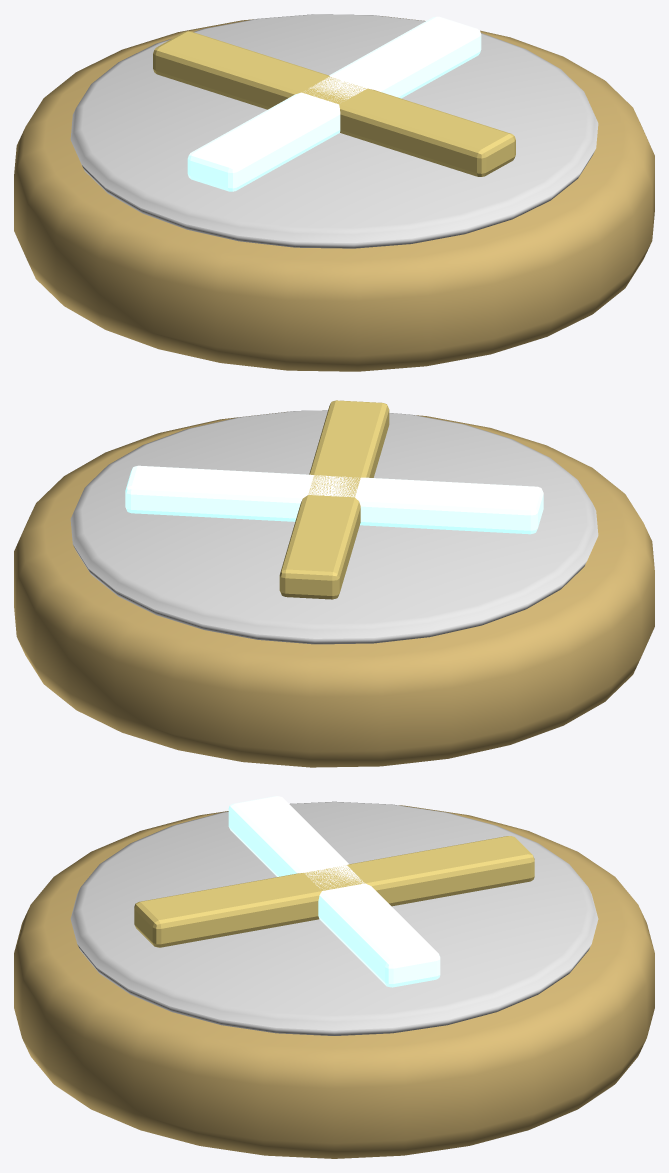
The model's file is SM_Art_StarlightCompass.fbx.
3 views of the same model, one above another, from view 1: azimuth 30°, elevation 25°; view 2: azimuth 150°, elevation 25°; view 3: azimuth 270°, elevation 25° (orthographic).
Visible parts, largest first — view 1: Base, Face, NeedleA, NeedleB; view 2: Base, Face, NeedleB, NeedleA; view 3: Base, Face, NeedleA, NeedleB.
Part boxes in pixels (bbox=[...]): Base: bbox=[14, 16, 654, 371]; Face: bbox=[70, 14, 598, 248]; NeedleA: bbox=[153, 31, 515, 176]; NeedleB: bbox=[187, 16, 481, 191]; Base: bbox=[14, 411, 654, 767]; Face: bbox=[70, 410, 598, 644]; NeedleB: bbox=[125, 465, 543, 534]; NeedleA: bbox=[279, 400, 389, 599]; Base: bbox=[14, 805, 654, 1158]; Face: bbox=[70, 801, 598, 1035]; NeedleA: bbox=[134, 836, 534, 947]; NeedleB: bbox=[228, 796, 440, 987].
Bounding box in the file's own units: 0.17 × 0.046 × 0.17.
